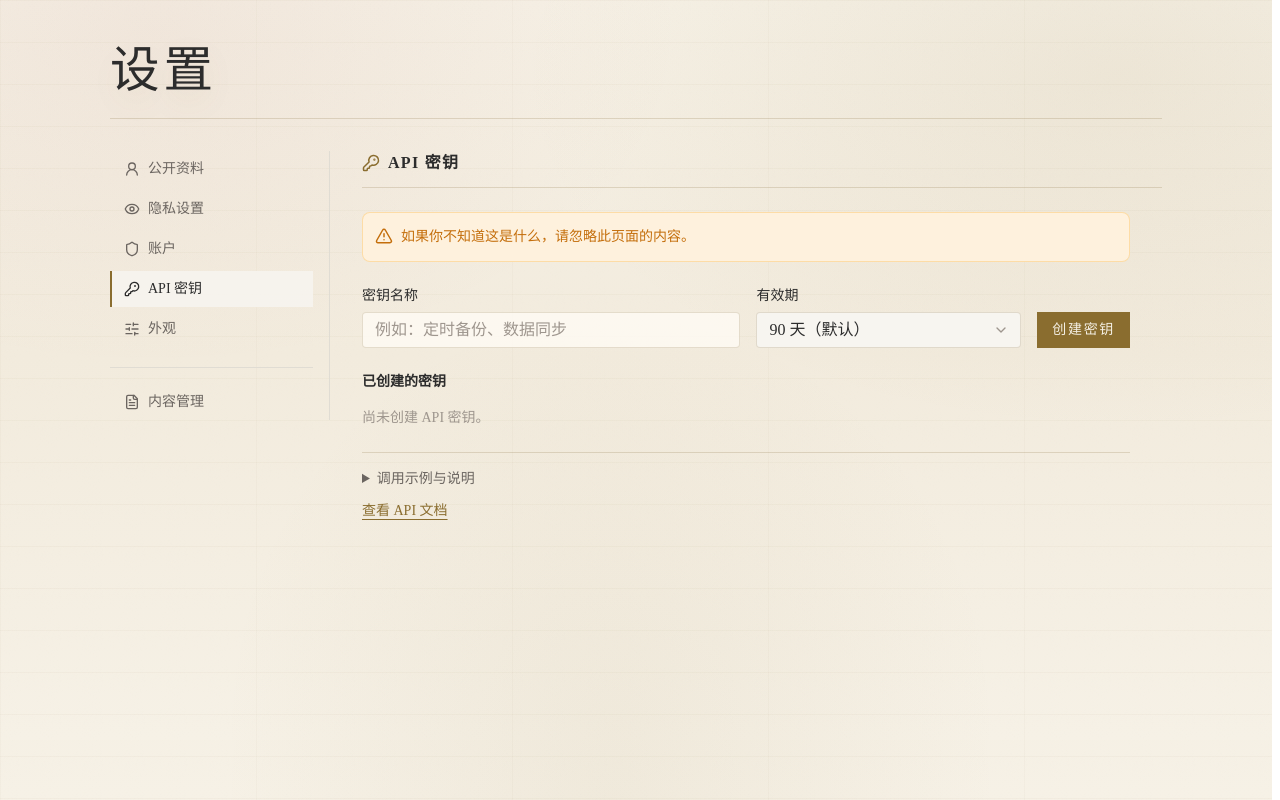
Settings API key management › keeps API key management in its own settings tab, separate from account credentials
Expected: the text "尚未创建 API 密钥。" is shown, [362,410,490,425]
Expected: the button "修改邮箱" is not shown
Click the link "账户" at (150, 249), box [124,241,176,257]
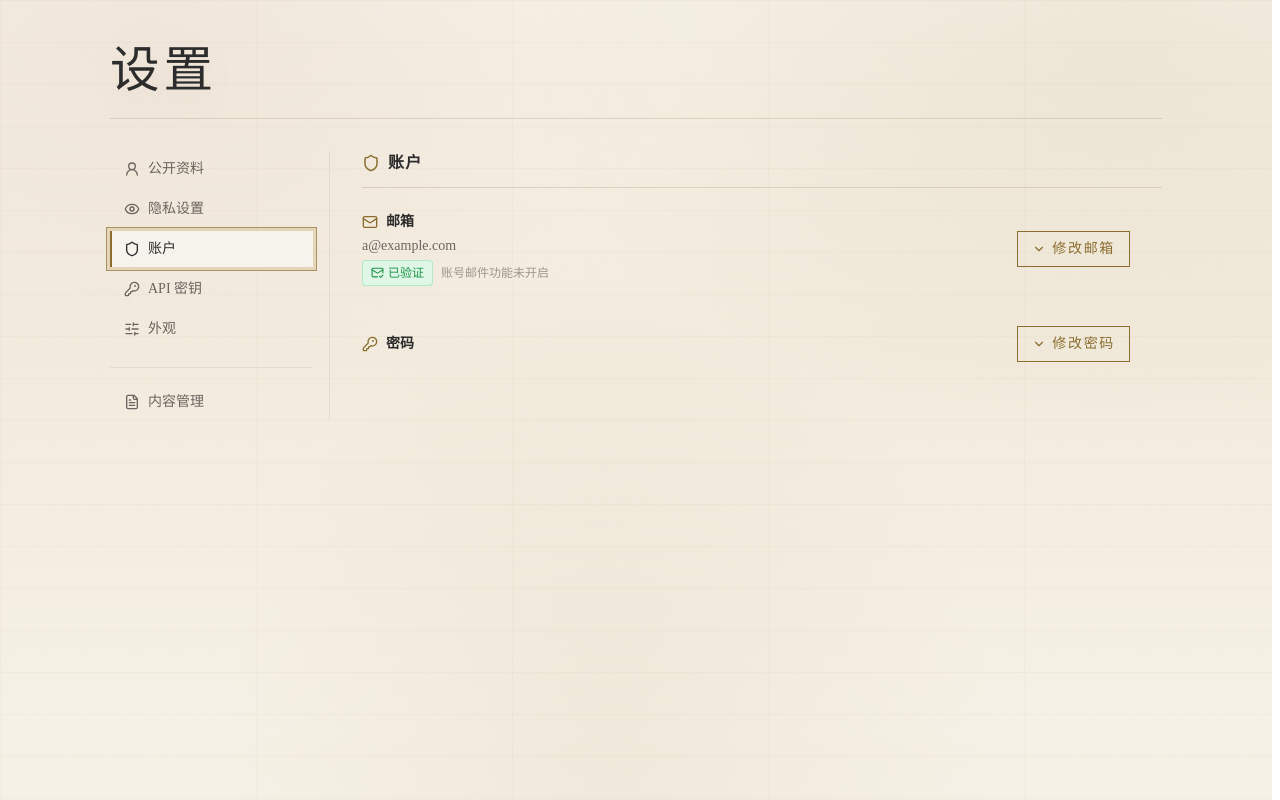
Now the button "修改邮箱" is shown, box [1017,231,1130,267]
Now the label "密钥名称" is gone
Click the link "API 密钥" at (163, 289), box [124,281,202,297]
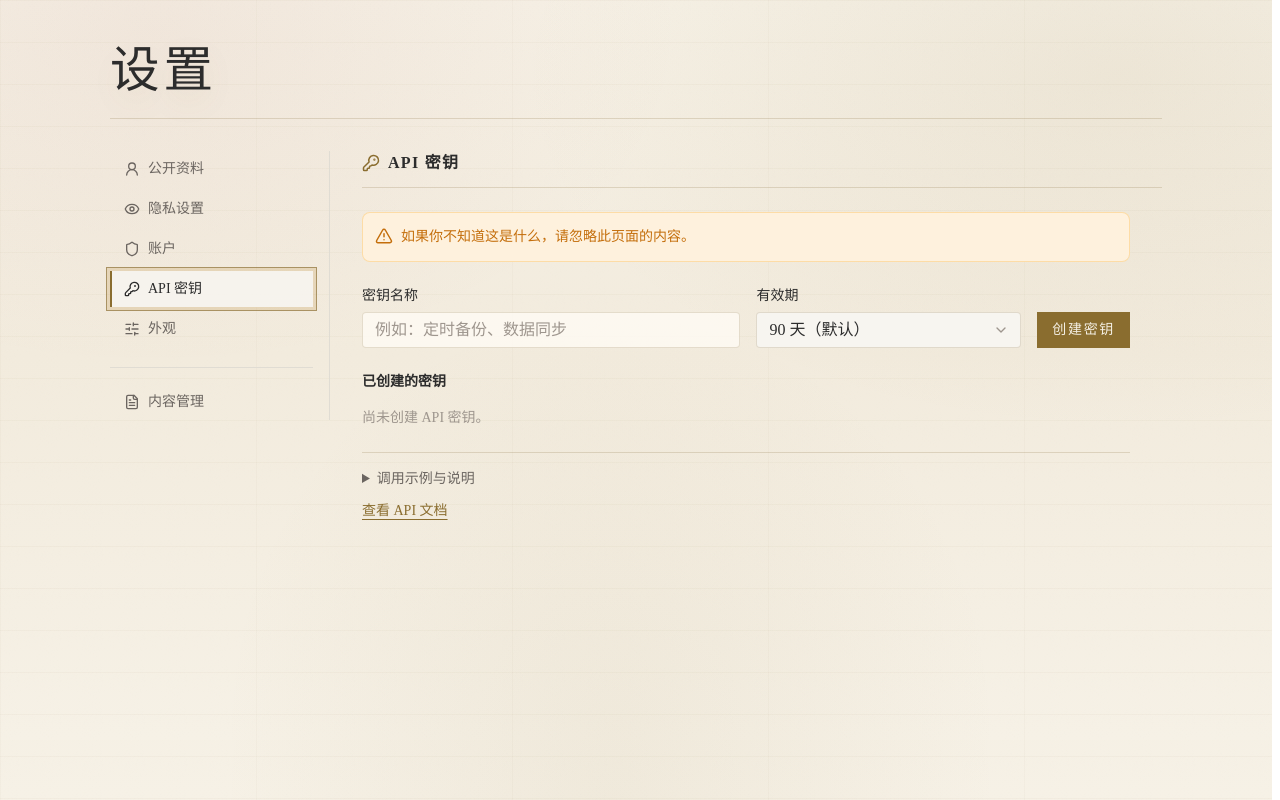
Now the field labelled "密钥名称" is shown, box [362,312,740,348]
